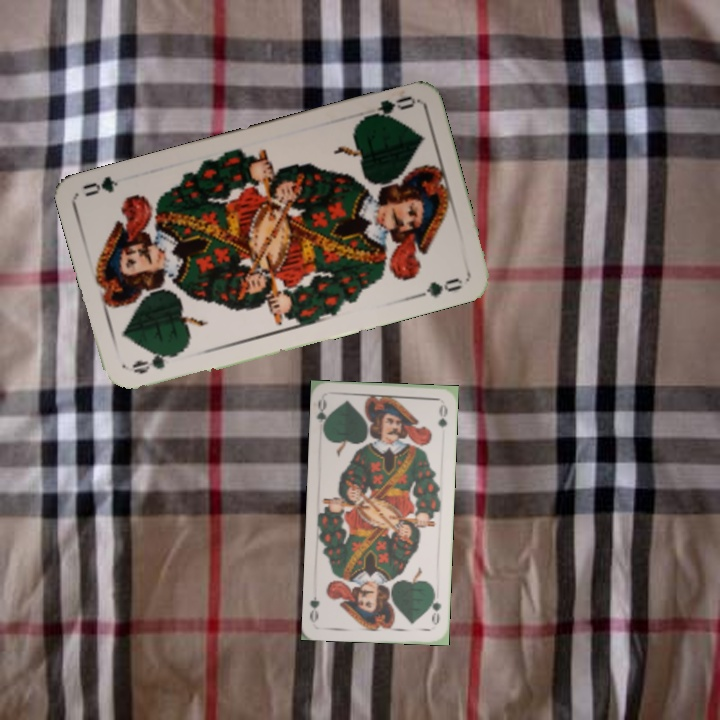GO: (359, 92, 417, 123), (128, 347, 184, 377), (313, 395, 332, 436), (426, 588, 444, 627)
